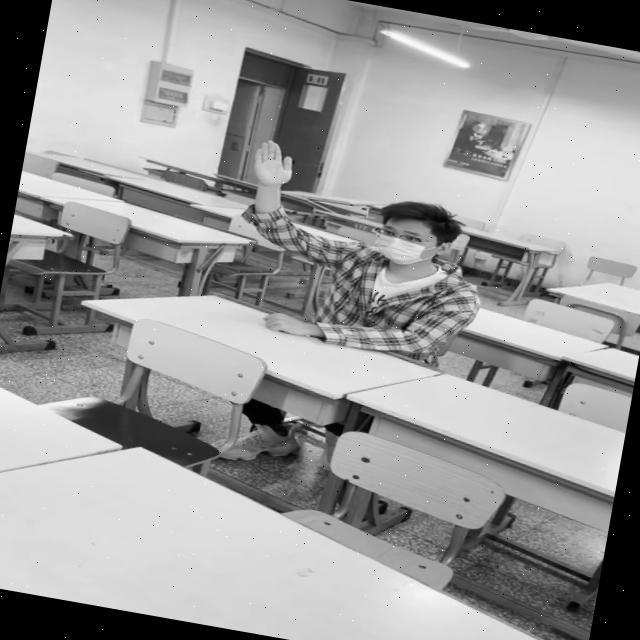study: (225, 139, 496, 364)
